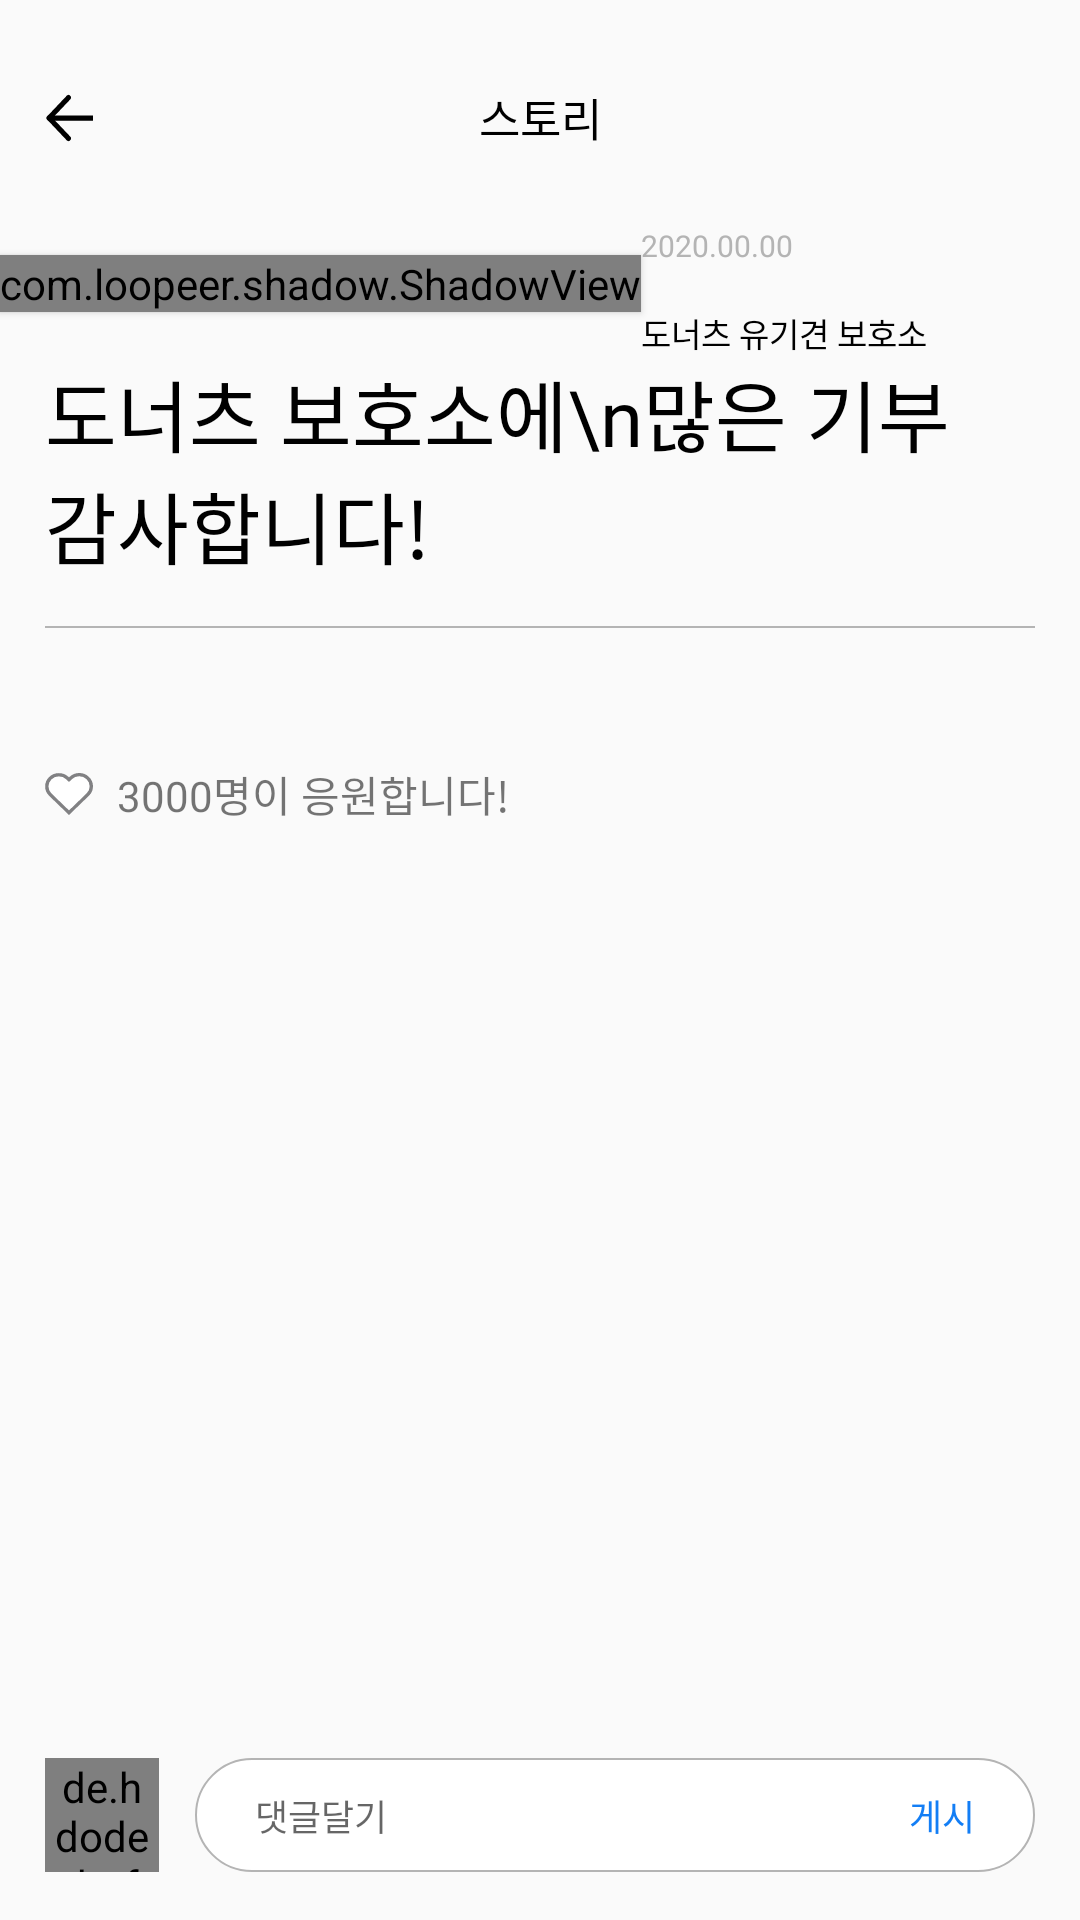

Named icons in this screenshot (1080px×1920px) and their centers, [x,y]:
back: [69,118]
like: [69,794]
